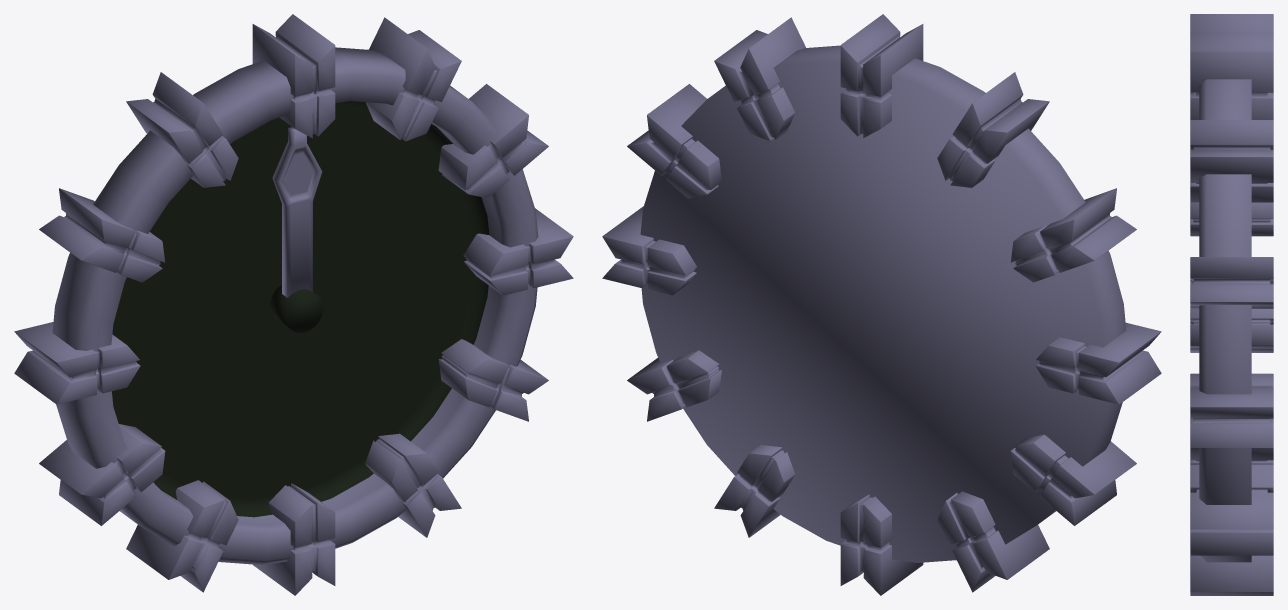
Rendered from clock.fbx.
3 renders of one model, left to right at view 1: azimuth 30°, elevation 25°; view 2: azimuth 150°, elevation 25°; view 3: azimuth 270°, elevation 25°, orthographic. The views are drawn at different scales.
Parts seen in each view (by area): view 1: Cylinder, Cube.001, Cube; view 2: Cylinder, Cube.001; view 3: Cube.001, Cylinder.
Boxes of the visible parts, x1,y1,x2,y2 form: Cylinder: (52,47,538,564); Cube.001: (14,14,573,595); Cube: (272,127,322,297); Cylinder: (640,45,1126,562); Cube.001: (602,14,1161,595); Cube.001: (1190,14,1273,595); Cylinder: (1199,79,1251,562).
Size of the model in its own units: 222 by 222 by 31.75.
